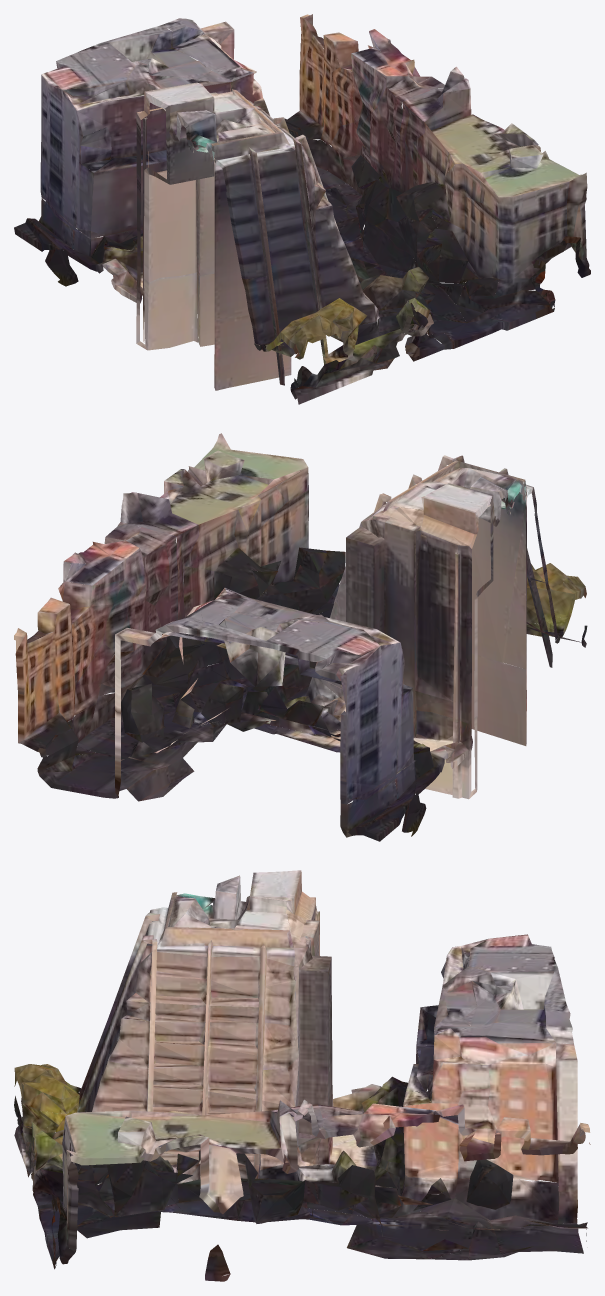
3 views of the same model, one above another, from view 1: azimuth 30°, elevation 25°; view 2: azimuth 150°, elevation 25°; view 3: azimuth 270°, elevation 25° (orthographic). The views are drawn at different scales.
Parts seen in each view (by area): view 1: Mesh_0; view 2: Mesh_0; view 3: Mesh_0.
Boxes of the visible parts, bbox=[...] form: Mesh_0: bbox=[14, 14, 590, 404]; Mesh_0: bbox=[14, 433, 587, 841]; Mesh_0: bbox=[14, 870, 590, 1281].
Bounding box in the file's own units: 66.56 × 45.74 × 82.68.
Materials: 2 (2 with a texture image).
